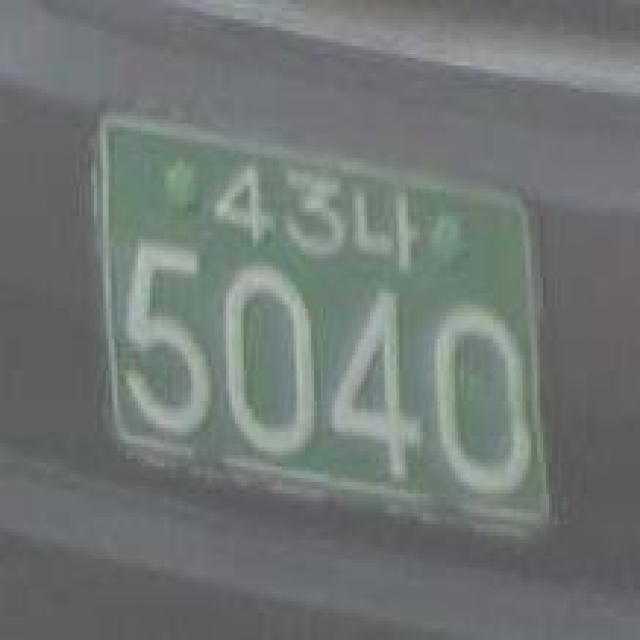illegal_plate: (82, 92, 559, 572)
